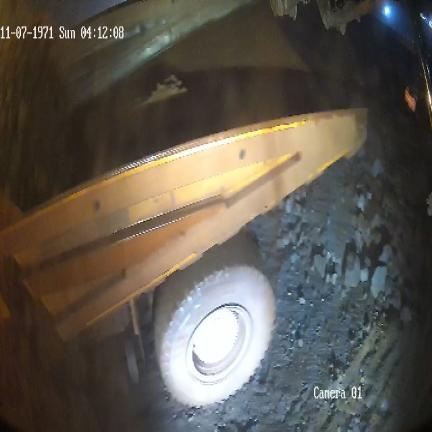pile: (249, 117, 432, 320)
